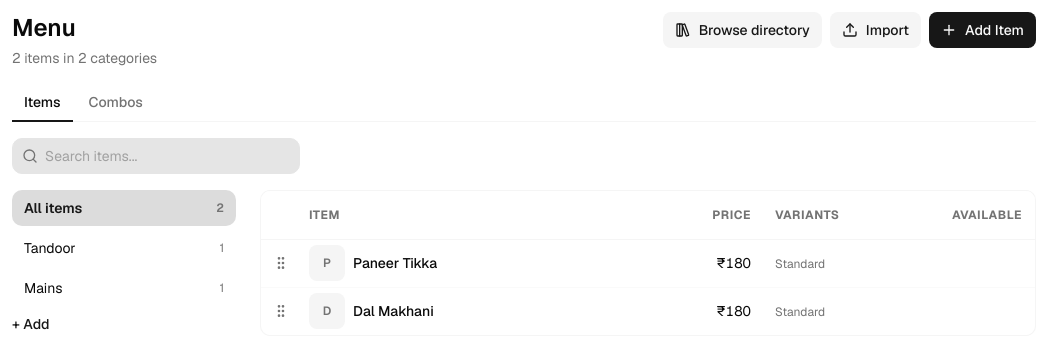
MenuManagement list › filters the table down to a single category
The width and height of the screenshot is (1048, 352).
Check: the table with test id "menu-table" is shown, box top-left (261, 191), bottom-right (1035, 335)
Click the button with test id "menu-category-mains": (124, 288) top-left (12, 270), bottom-right (236, 306)
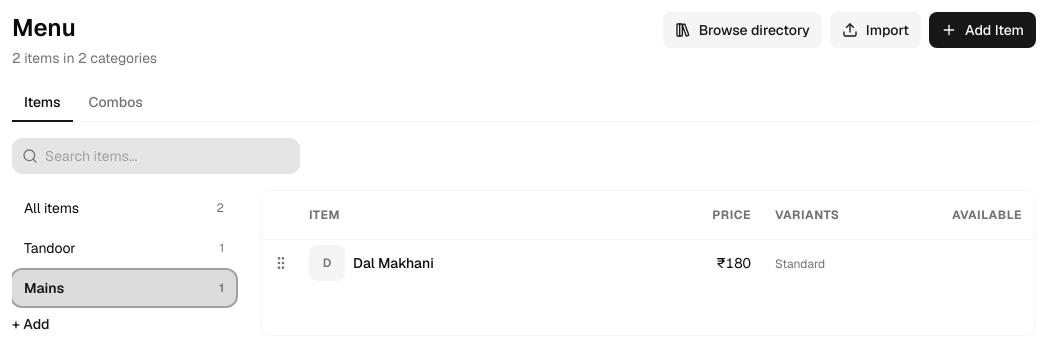
Check: the row with test id "menu-item-row-2" is shown, box top-left (261, 239), bottom-right (1035, 287)
Check: the row with test id "menu-item-row-1" is gone
